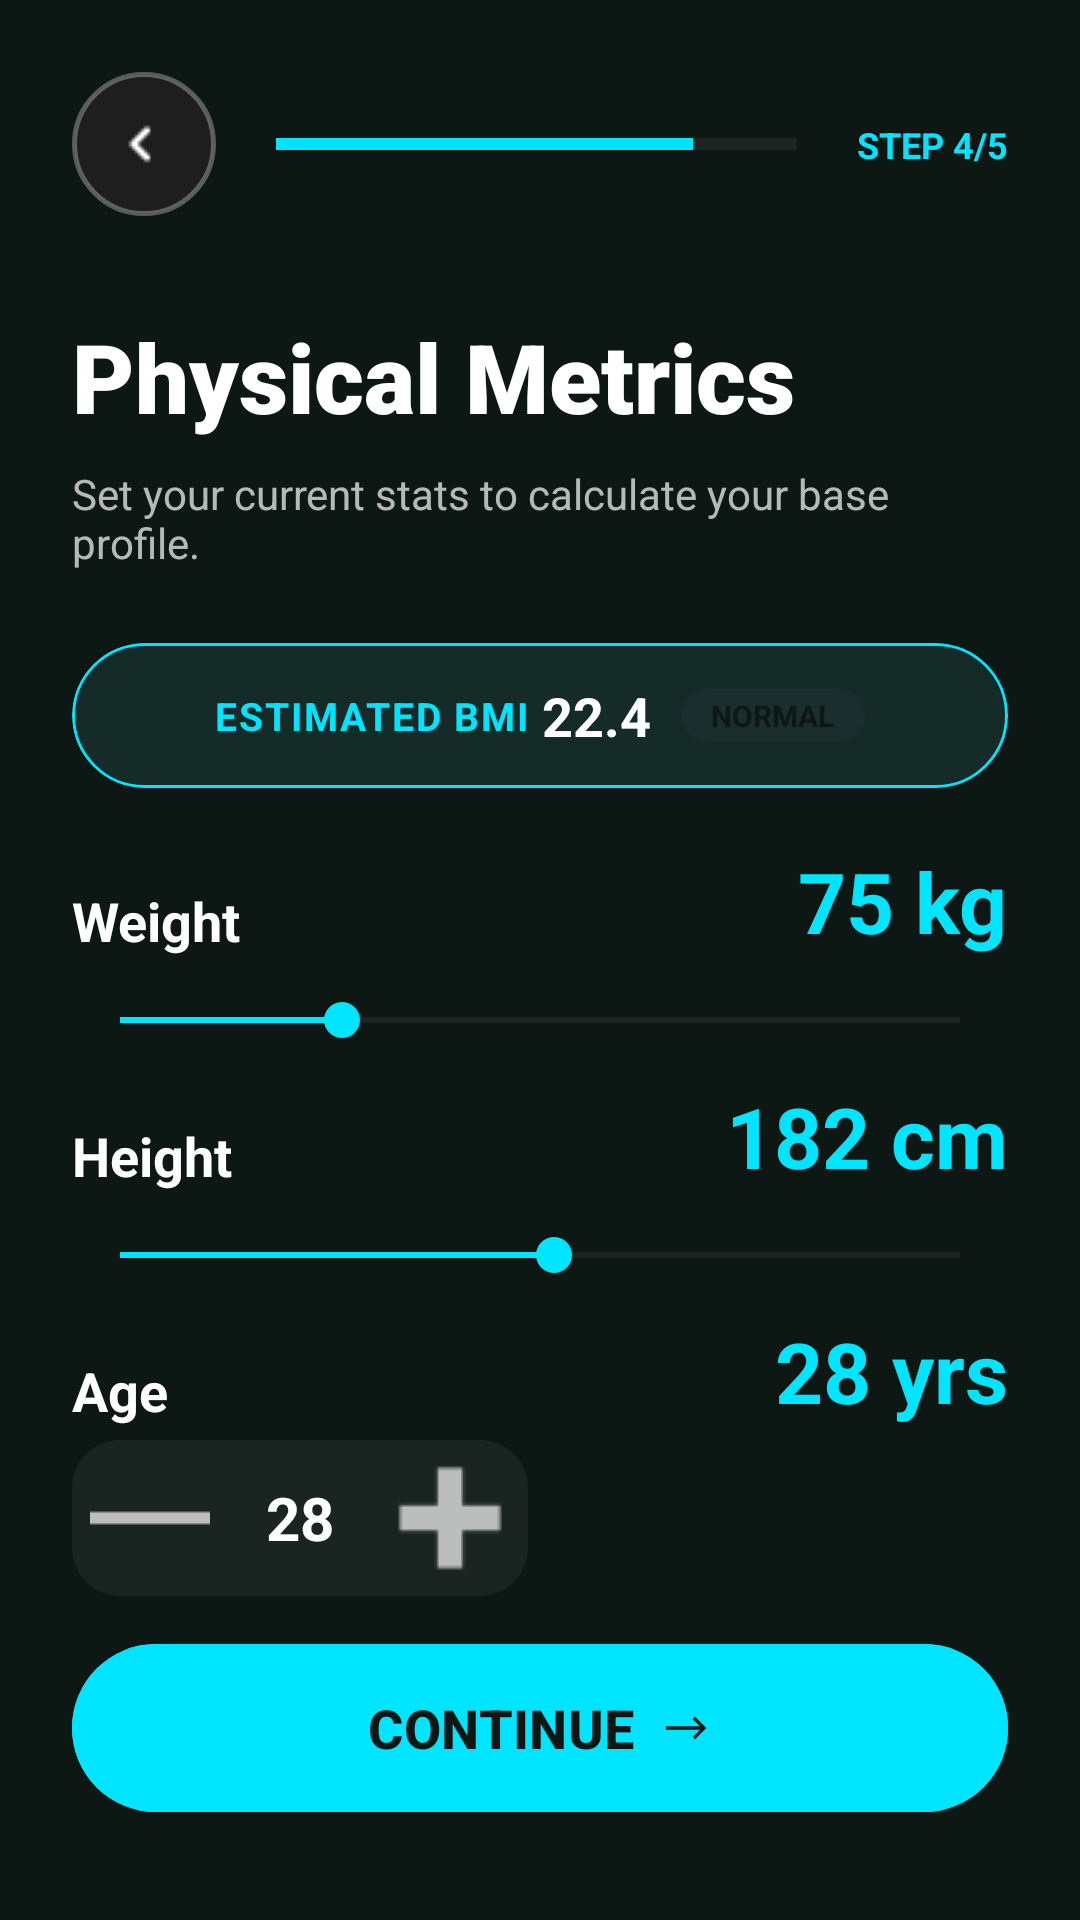

Screen size 1080w x 1920h. Icon name, then its center in pixels as (x,y):
add: (450,1518)
back: (144,144)
